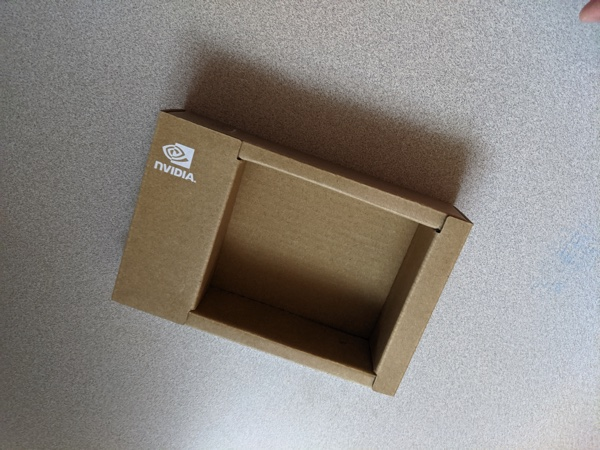cardboard: (99, 96, 484, 409)
